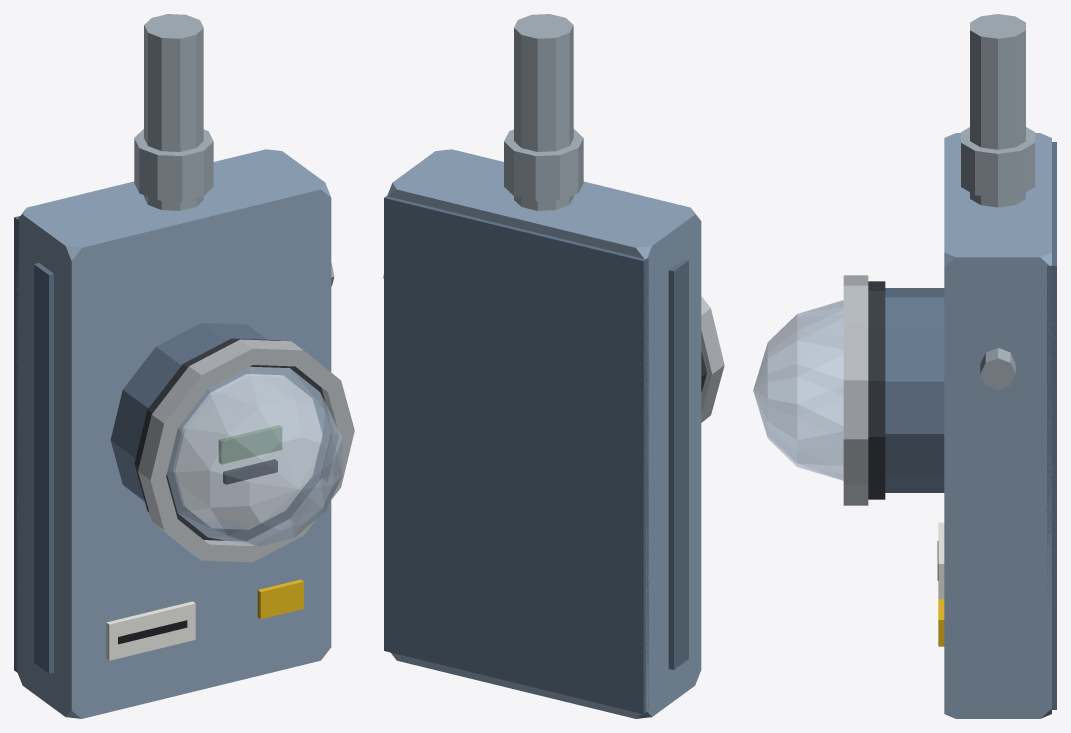
The model's file is electric_meter.obj.
3 renders of one model, left to right at view 1: azimuth 30°, elevation 25°; view 2: azimuth 150°, elevation 25°; view 3: azimuth 270°, elevation 25°, orthographic. The views are drawn at different scales.
Bounding box in the file's own units: 0.331 × 0.71 × 0.31.
